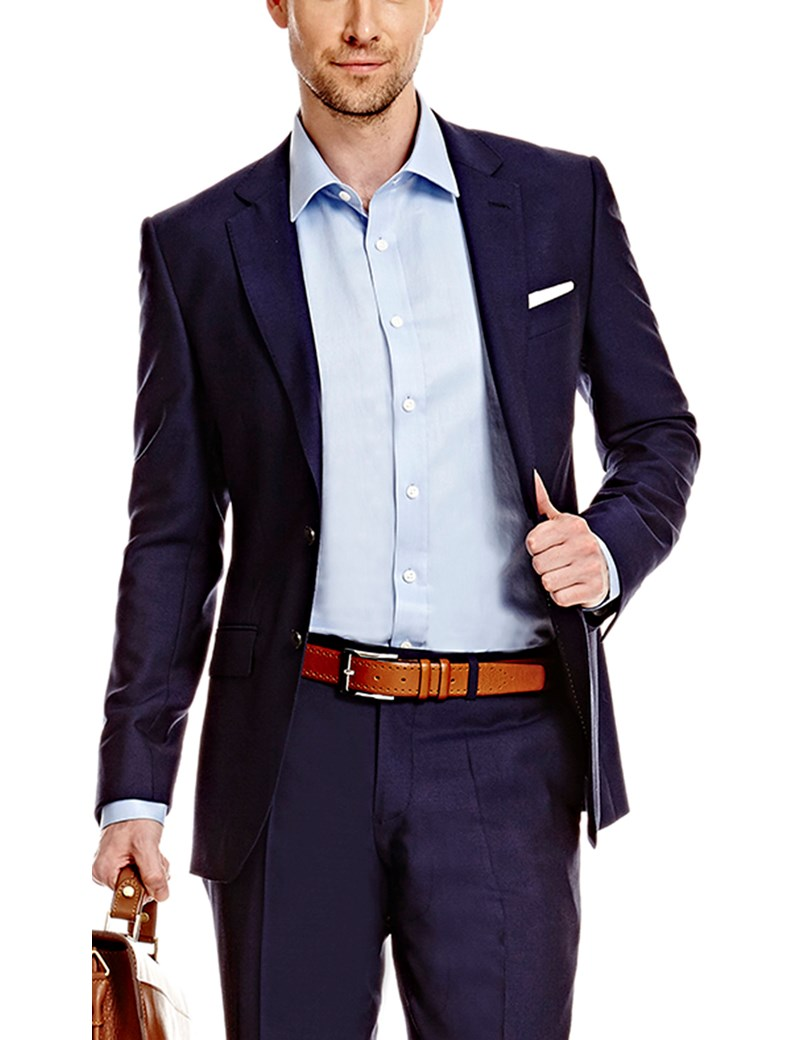F_M_suit jacket: (95, 142, 719, 860)
F_belt: (264, 636, 562, 715)
F_shirt: (285, 115, 499, 652)
